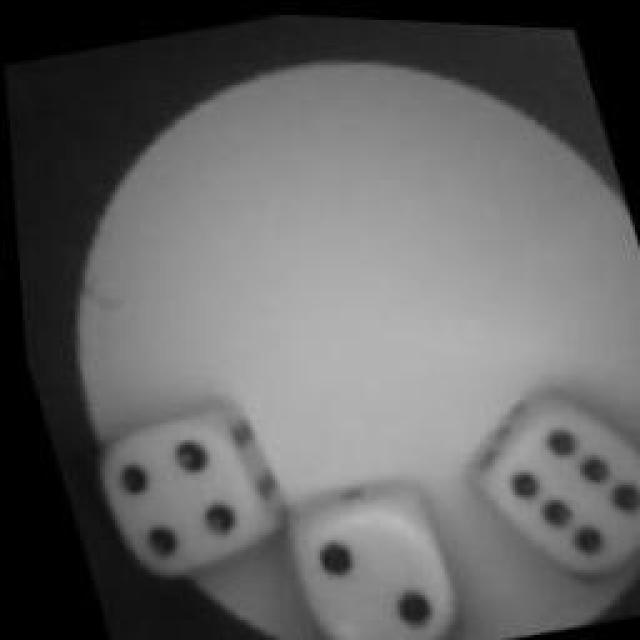dice_2: (266, 477, 461, 640)
dice_4: (78, 393, 282, 595)
dice_6: (460, 378, 640, 592)
